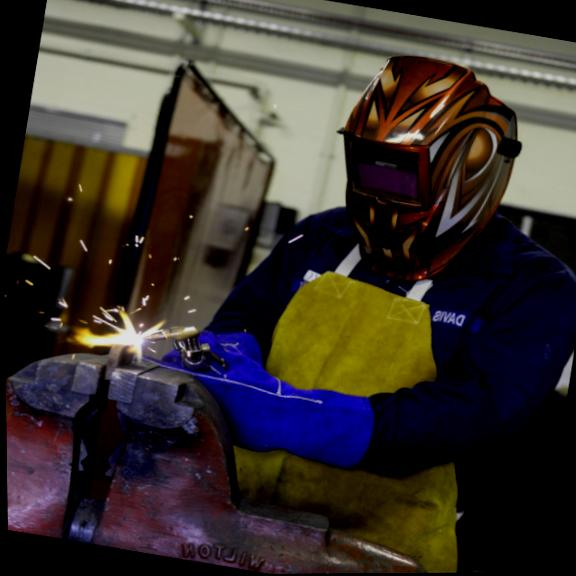no_safety_vest: (197, 164, 576, 534)
